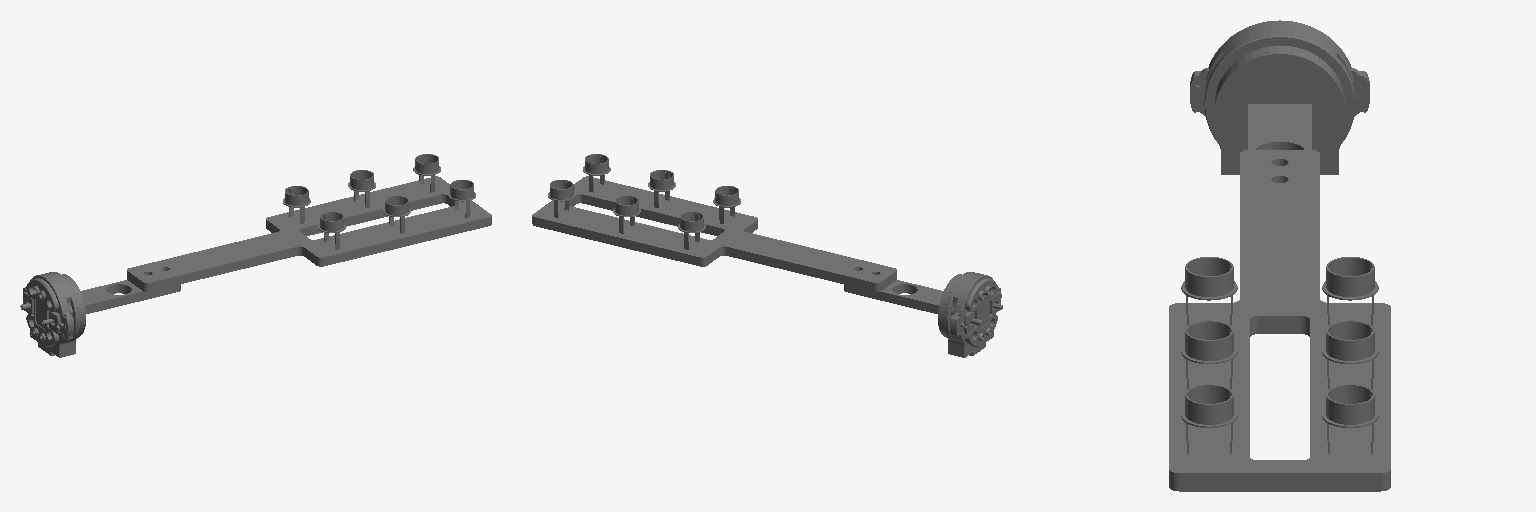
URDF robot description (gofa_with_carrier):
<?xml version="1.0"?>
<robot name="gofa_with_carrier">

  <!-- Robot end-effector link -->
  <link name="panda_hand"/>

  <!-- Carrier -->
  <link name="carrier">
    <visual>
      <geometry>
        <mesh filename="package://gofa_viz/resource/carrier_meshes/carrier_full.STL" scale="0.001 0.001 0.001"/>
      </geometry>
      <material name="gray">
        <color rgba="0.5 0.5 0.5 1"/>
      </material>
    </visual>
    <collision>
      <geometry>
        <mesh filename="package://gofa_viz/resource/carrier_meshes/carrier_full.STL" scale="0.001 0.001 0.001"/>
      </geometry>
    </collision>
  </link>

  <!-- Fixed joint connecting carrier to robot hand -->
  <joint name="hand_to_carrier" type="fixed">
    <parent link="panda_hand"/>
    <child link="carrier"/>
    <origin xyz="0 0 0" rpy="0 0 0"/>
  </joint>

</robot>

--- Facts derived from the render (not from the file) ---
3 views of the same robot in one strip: view 1: azimuth 30°, elevation 25°; view 2: azimuth 150°, elevation 25°; view 3: azimuth 270°, elevation 25° (orthographic).
Model gofa_with_carrier with 2 links and 1 joints (1 fixed), rooted at panda_hand, posed all joints at 0.
Visible links, largest first — view 1: carrier; view 2: carrier; view 3: carrier.
Boxes of the visible links, bbox=[...] form: carrier: bbox=[20, 154, 491, 357]; carrier: bbox=[532, 154, 1002, 357]; carrier: bbox=[1169, 20, 1390, 491].
Bounding box of the posed robot: 0.4987 × 0.11 × 0.0904 m (x, y, z).
Meshes: 1 distinct files referenced, 1 mesh visuals loaded (1 binary STL).
